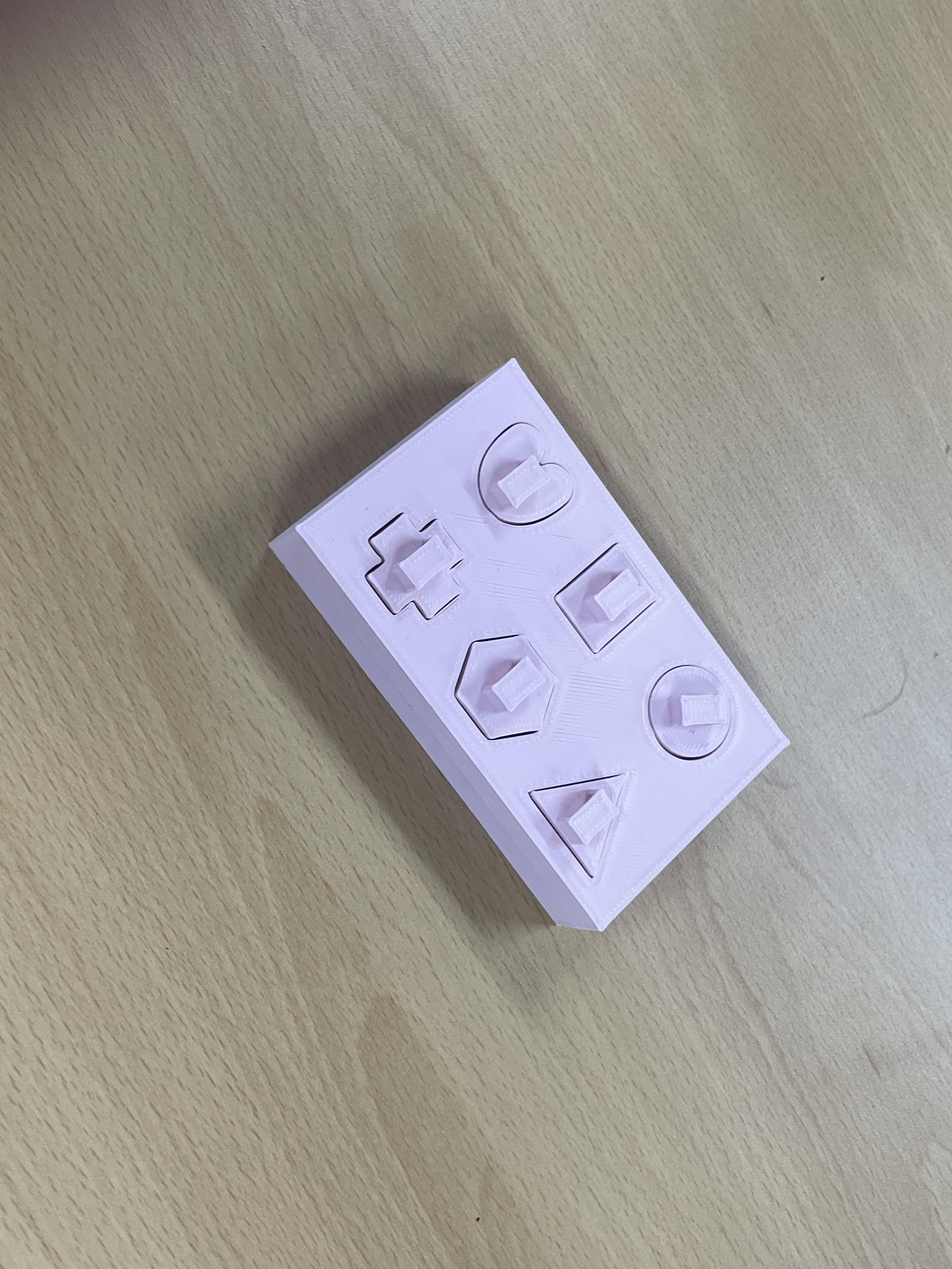solved: (264, 347, 820, 948)
